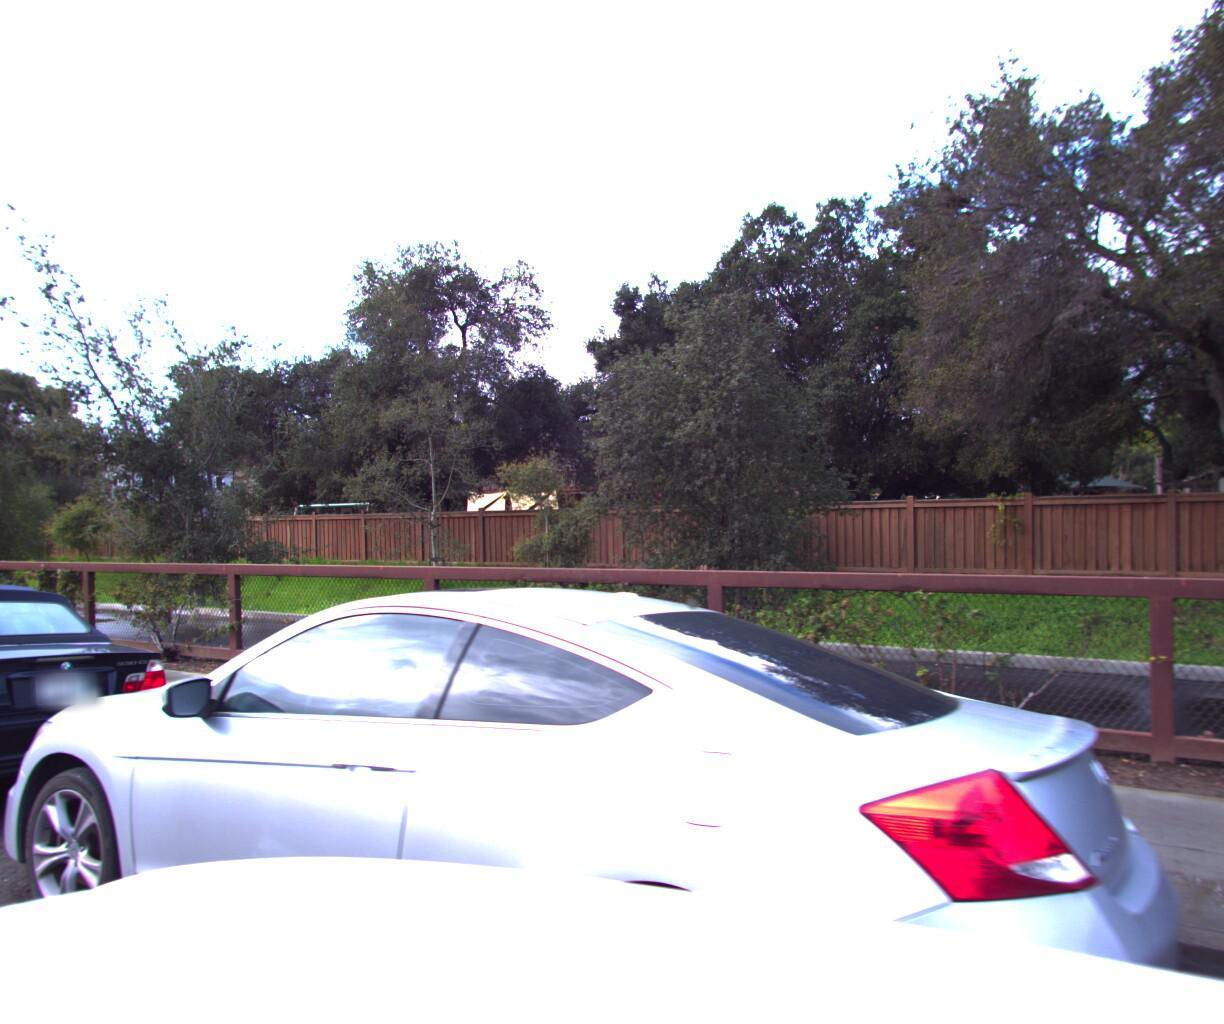car: (0, 564, 1207, 1024), (0, 566, 216, 869)
